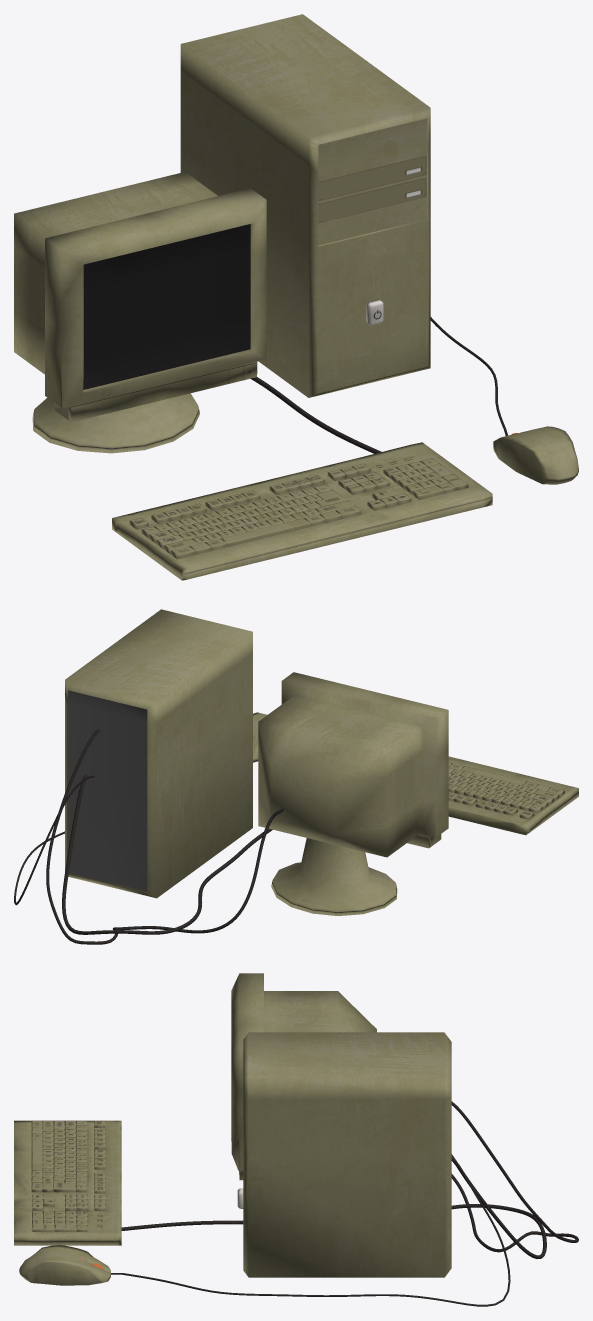
File: old_computer.glb
The picture shows the model from 3 angles, top to bottom: view 1: azimuth 30°, elevation 25°; view 2: azimuth 150°, elevation 25°; view 3: azimuth 270°, elevation 25°; orthographic projection. The views are drawn at different scales.
Parts seen in each view (by area): view 1: computer; view 2: computer; view 3: computer.
Part boxes in pixels (box(x1,y1,x2,y2)): computer: box(14, 14, 578, 580); computer: box(14, 609, 578, 944); computer: box(14, 973, 578, 1306).
Size of the model in its own units: 16.14 by 9.38 by 22.26.
1 material, 1 textured.
